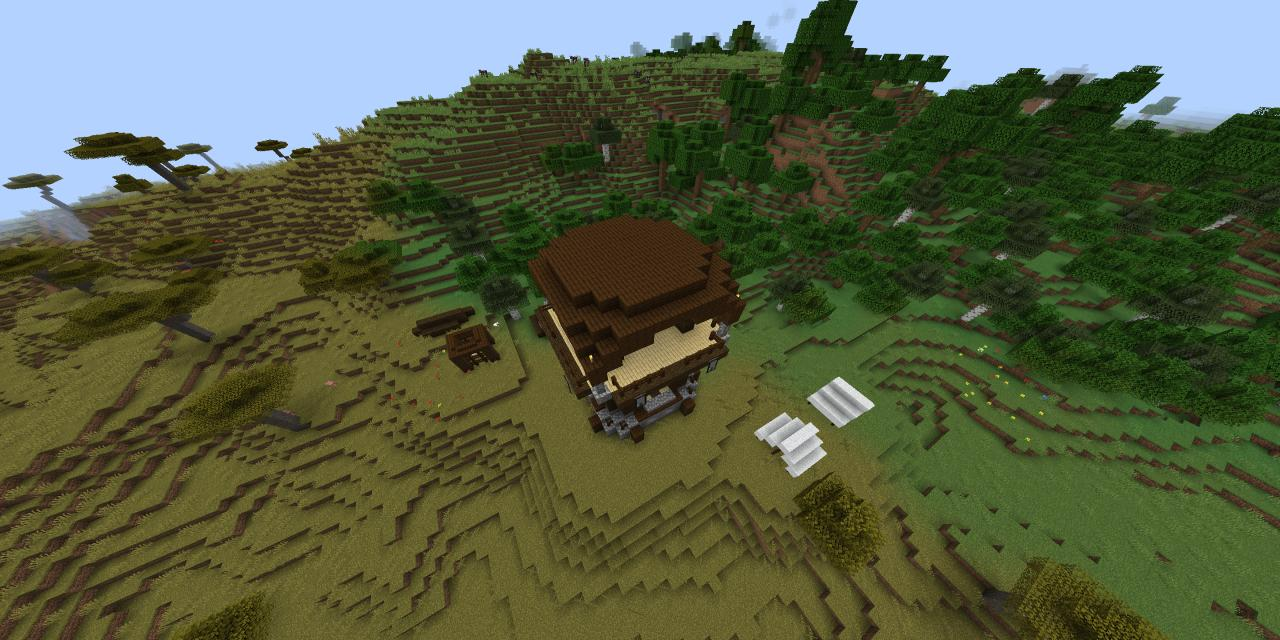pillager outpost: (514, 206, 760, 456)
